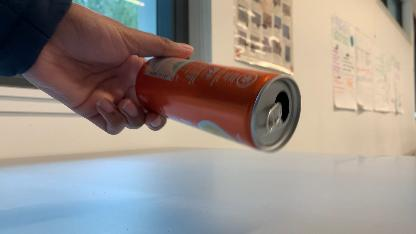Can: (135, 56, 301, 154)
